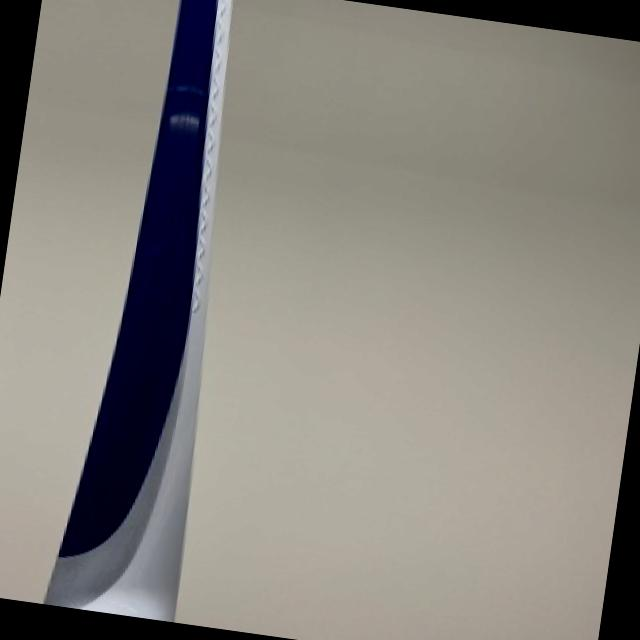healthy: (48, 0, 232, 621)
